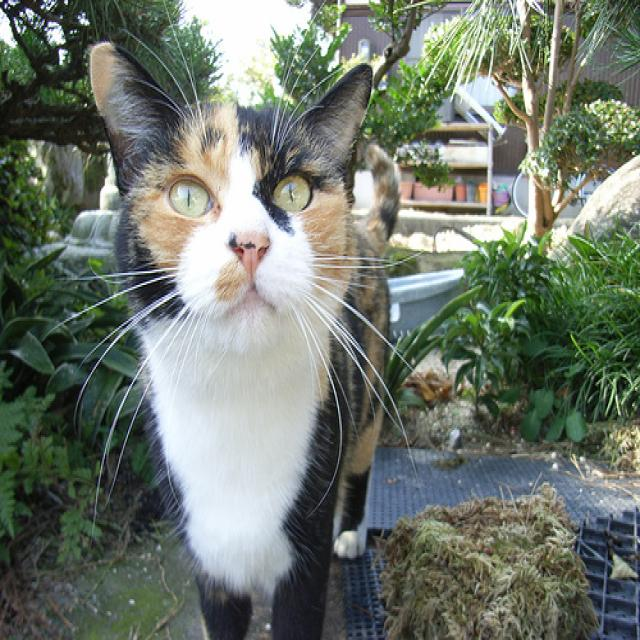cat: (63, 29, 420, 640)
